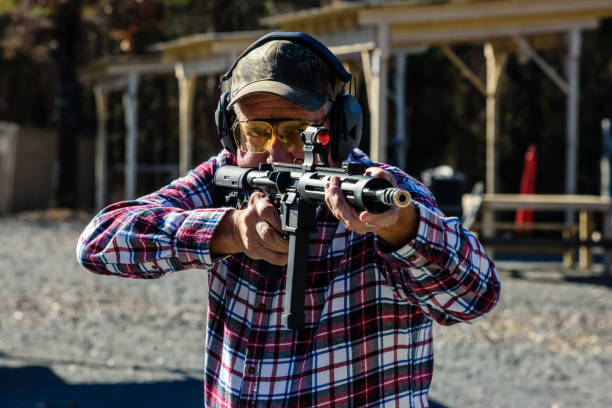gun: (213, 161, 413, 330)
